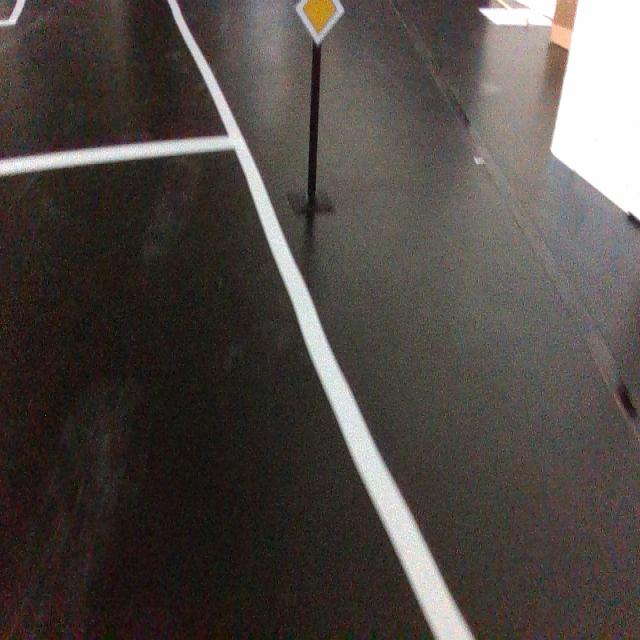priority-sign: (295, 0, 346, 48)
